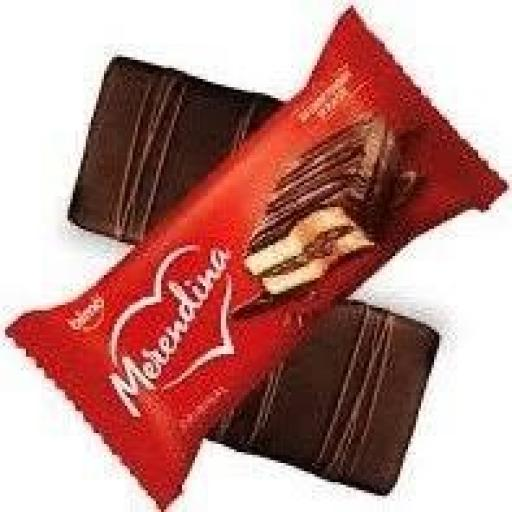merendina: (4, 14, 479, 433)
